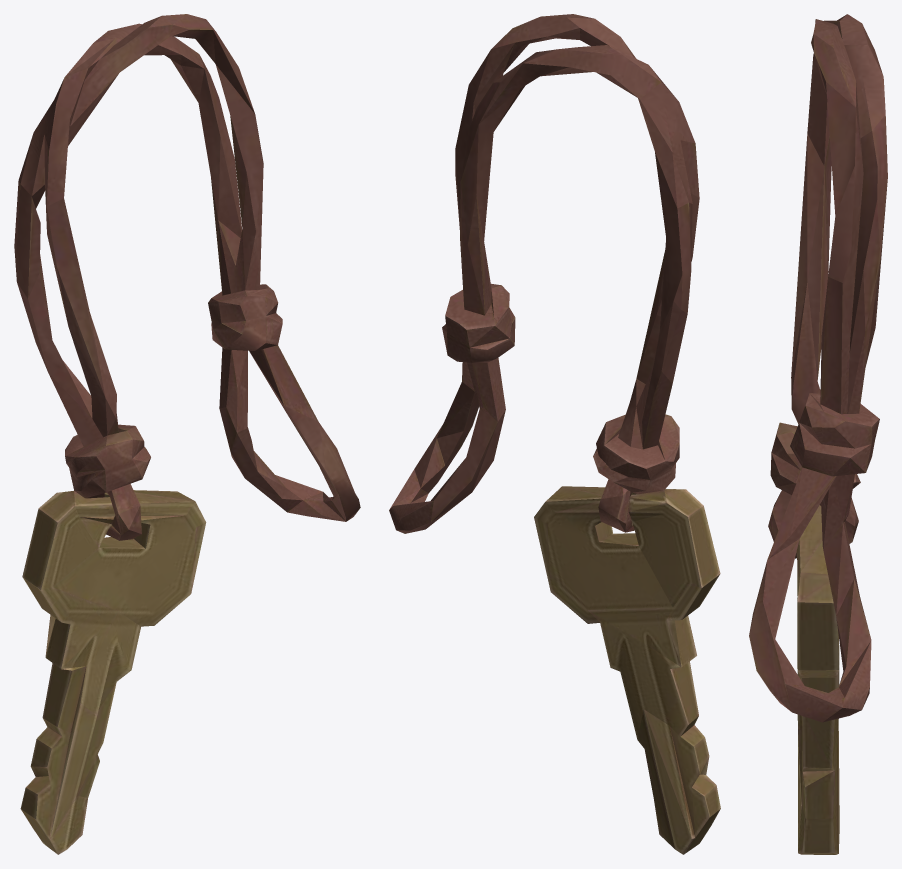
The model's file is housekey.glb.
3 views of the same model, side by side, from view 1: azimuth 30°, elevation 25°; view 2: azimuth 150°, elevation 25°; view 3: azimuth 270°, elevation 25° (orthographic). The views are drawn at different scales.
Size of the model in its own units: 0.7827 by 1.9 by 0.2692.
Materials: 1 (1 with a texture image).
